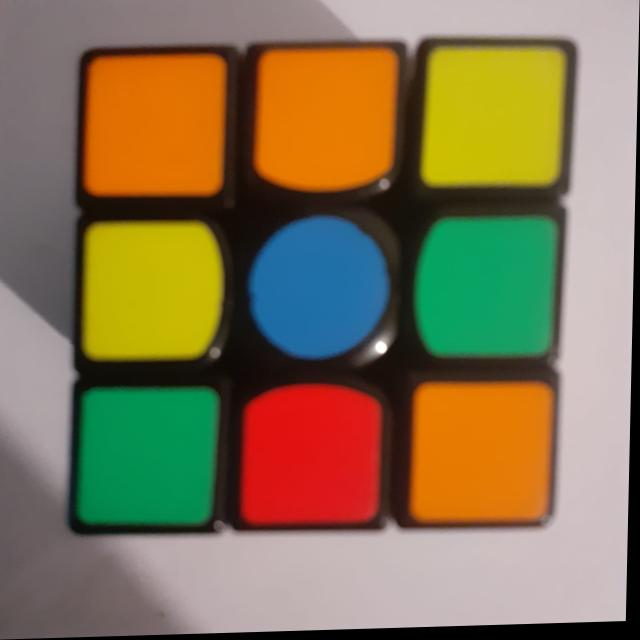Blue: (239, 213, 397, 368)
Green: (405, 215, 563, 374), (72, 382, 216, 531)
Orange: (79, 50, 237, 209), (248, 50, 403, 203), (403, 380, 551, 526)
Red: (233, 379, 393, 538)
Yellow: (417, 42, 571, 201), (77, 220, 230, 375)
